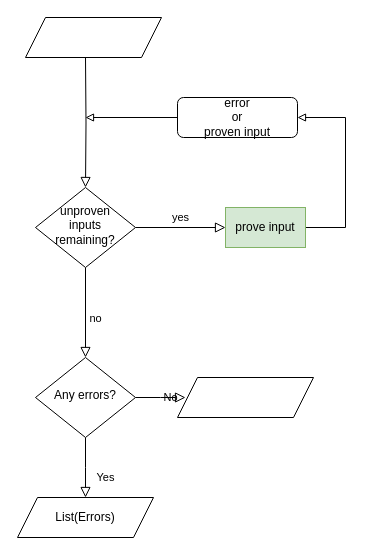
Image size: 371x555. Some labels were removed from this diagram. The centre of each missing label's shape, as x and y in pixels:
"Proven Transaction" belongs at point (245, 397).
"Unproven Transaction" belongs at point (93, 37).
